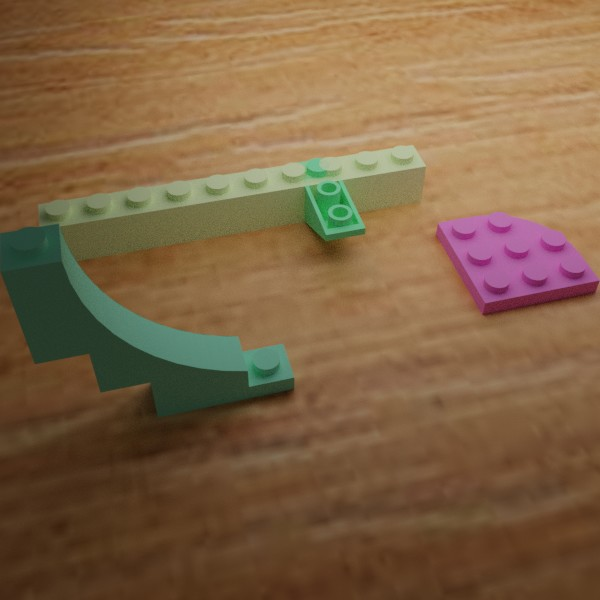lego: (0, 223, 294, 417), (38, 145, 426, 265), (435, 212, 599, 314), (294, 157, 365, 241)
